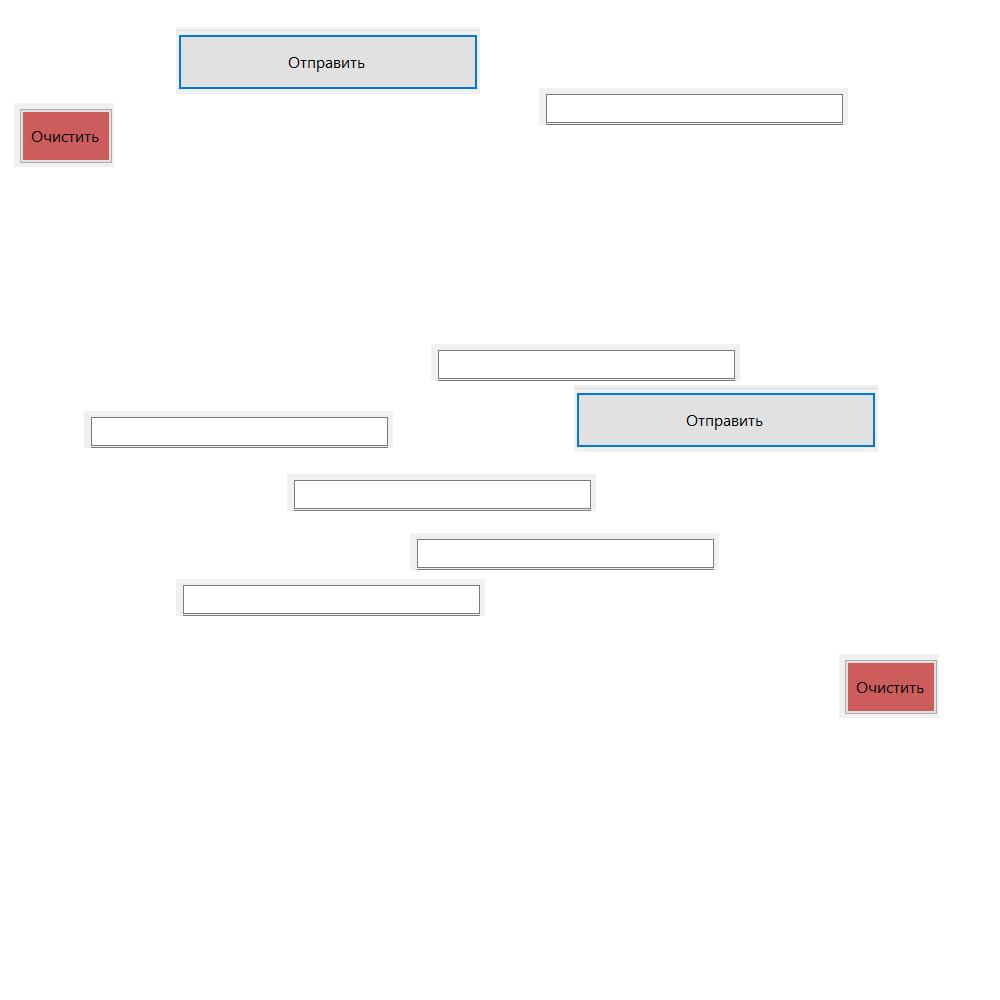Button: (176, 27, 480, 94), (574, 385, 878, 452), (839, 654, 939, 718), (14, 103, 114, 167)
EditText-: (287, 474, 596, 511), (84, 411, 393, 448), (539, 88, 848, 125), (431, 344, 740, 381), (410, 533, 719, 570), (176, 579, 485, 616)
